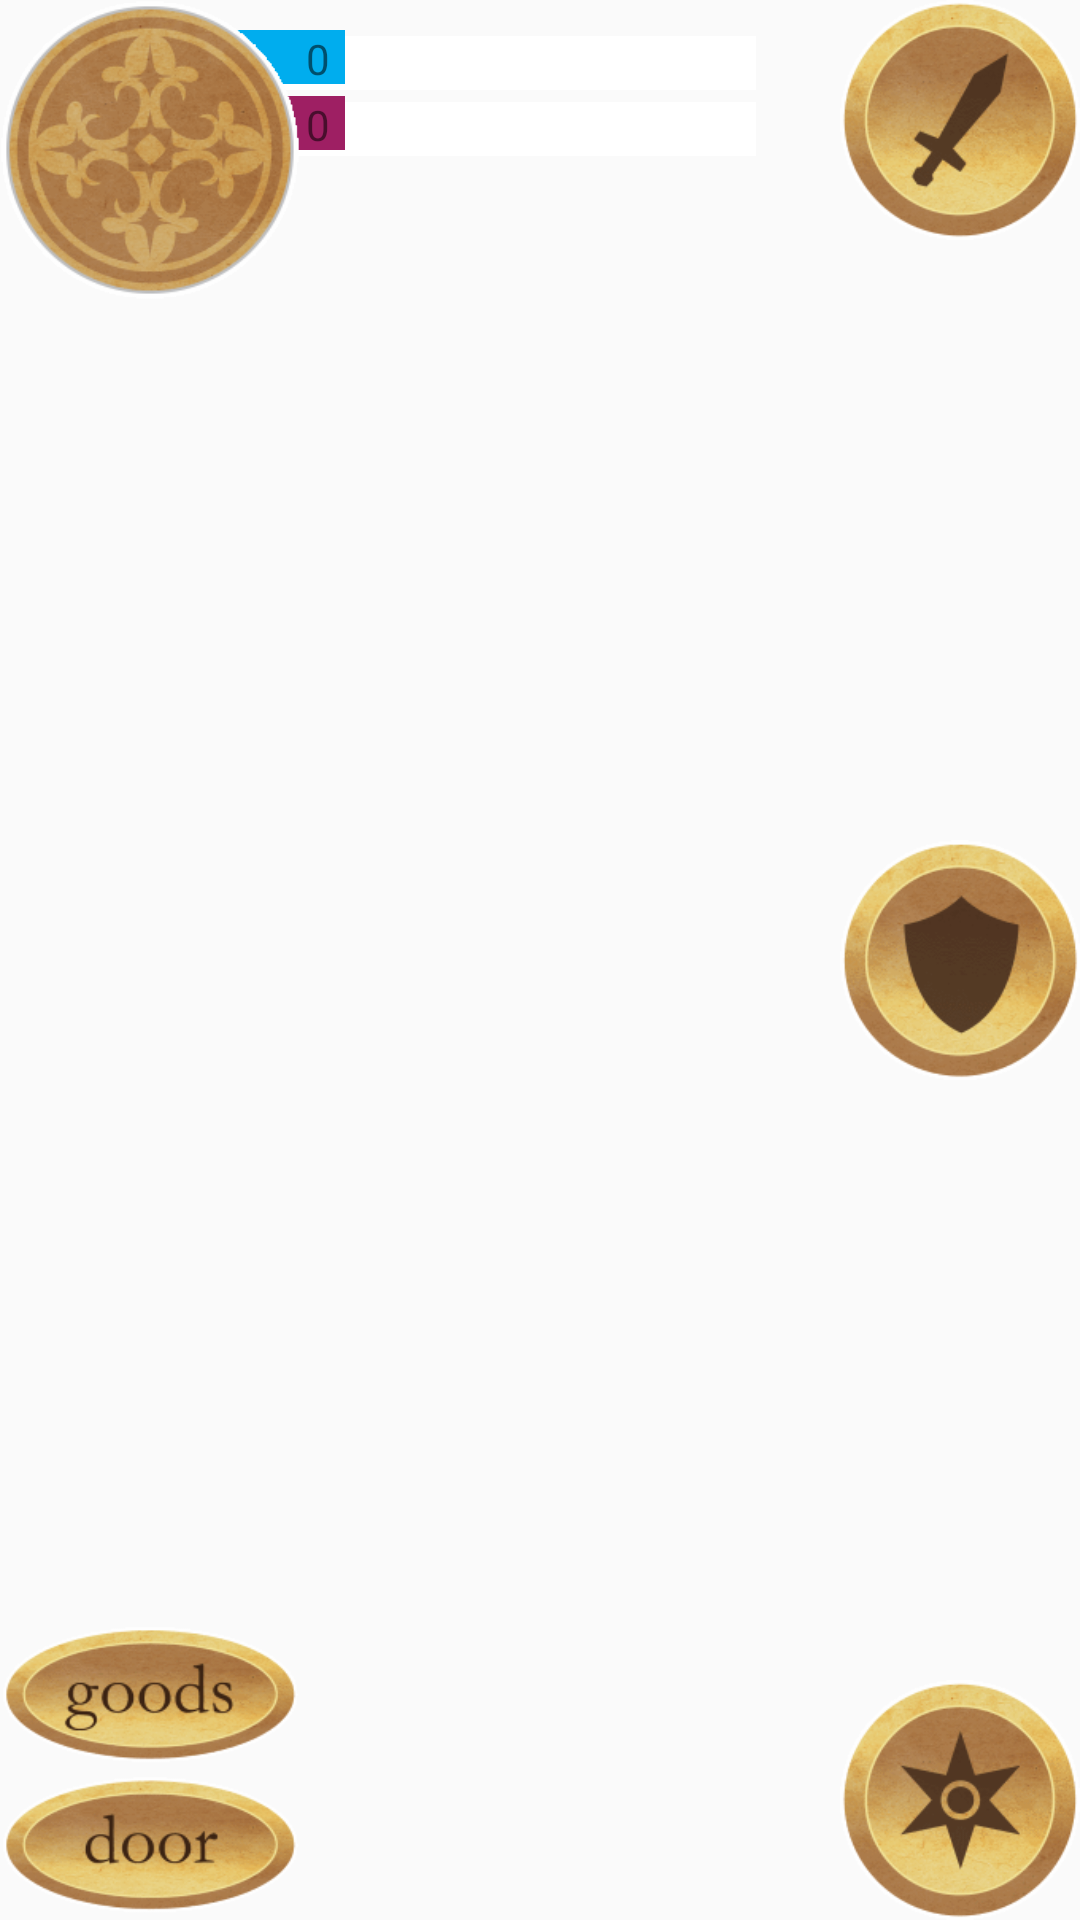

Named icons in this screenshot (1080x1920) and their bounding boxes, (x1, y1, x2, y2):
hud sepia atk: (843, 3, 1077, 237)
hud sepia def: (844, 844, 1077, 1077)
hud sepia spells: (843, 1684, 1076, 1917)
